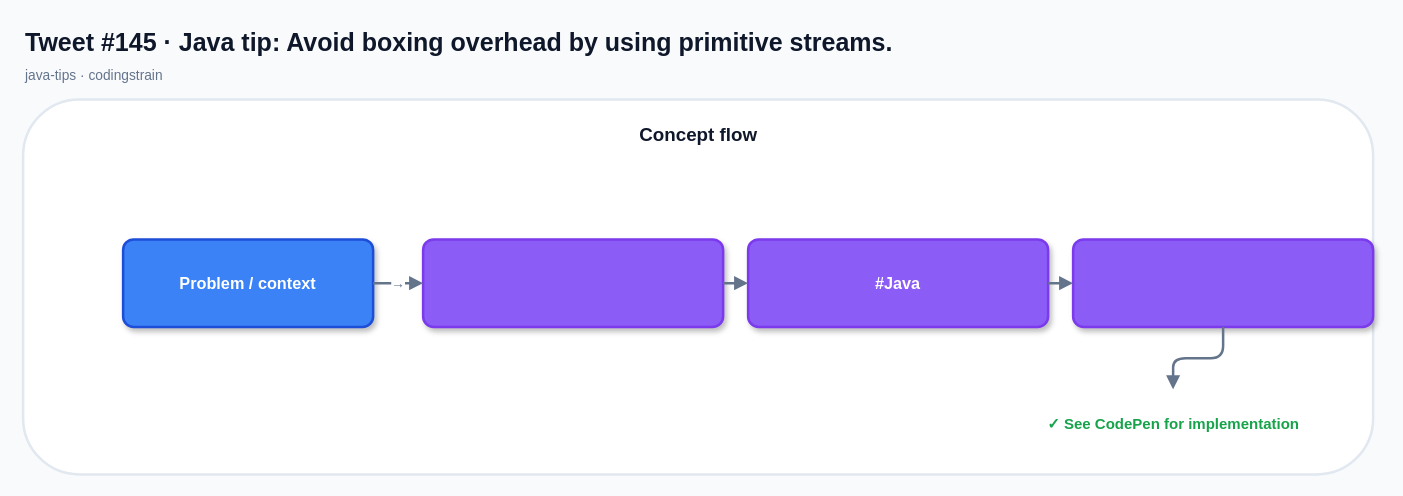
This 1403x496 diagram has some shape labels left out. Each missing label, with the centre of its shape:
"Runnable sample: `java-tips`" goes at point 1223,284.
"💡 Java tip: Avoid boxing overhead by using primitive streams." goes at point 573,284.
